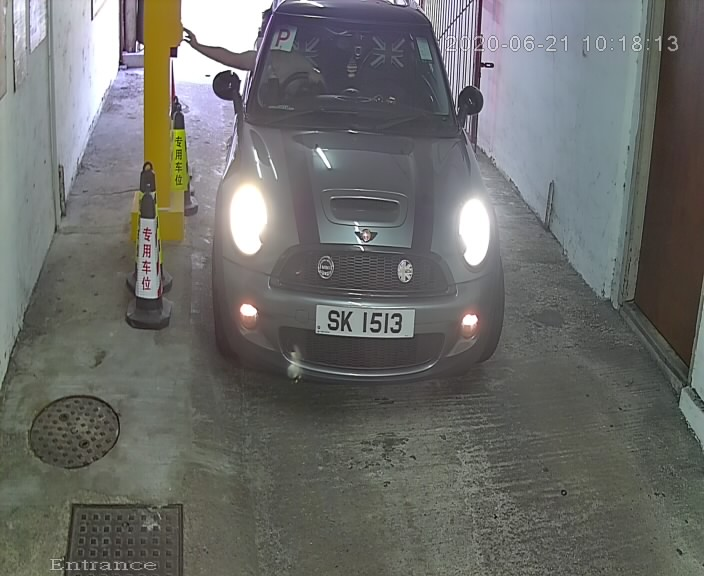privatecar: (187, 1, 527, 413)
